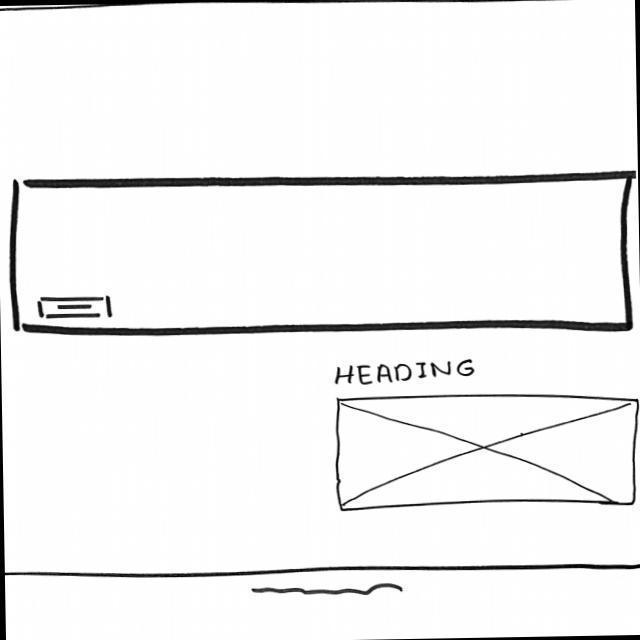container: (8, 169, 635, 345)
icon-button: (34, 294, 116, 322)
image: (332, 389, 639, 515)
label: (329, 356, 479, 388)
text: (248, 582, 407, 601)
